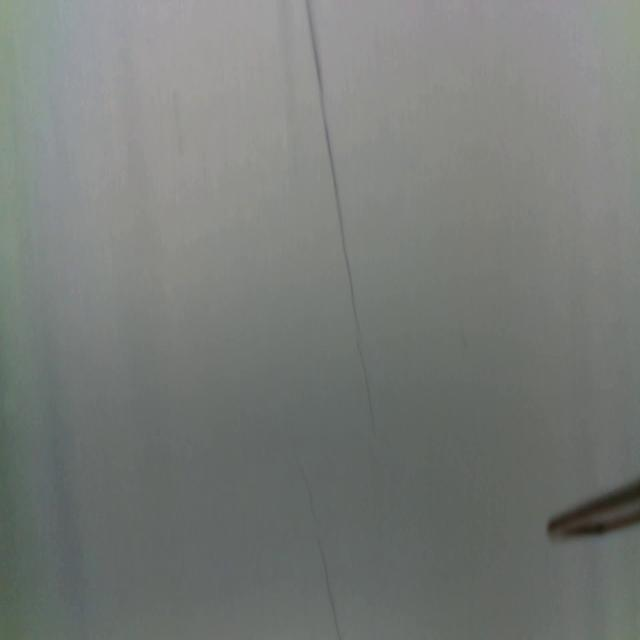crease: (304, 0, 374, 436), (295, 454, 340, 638)
